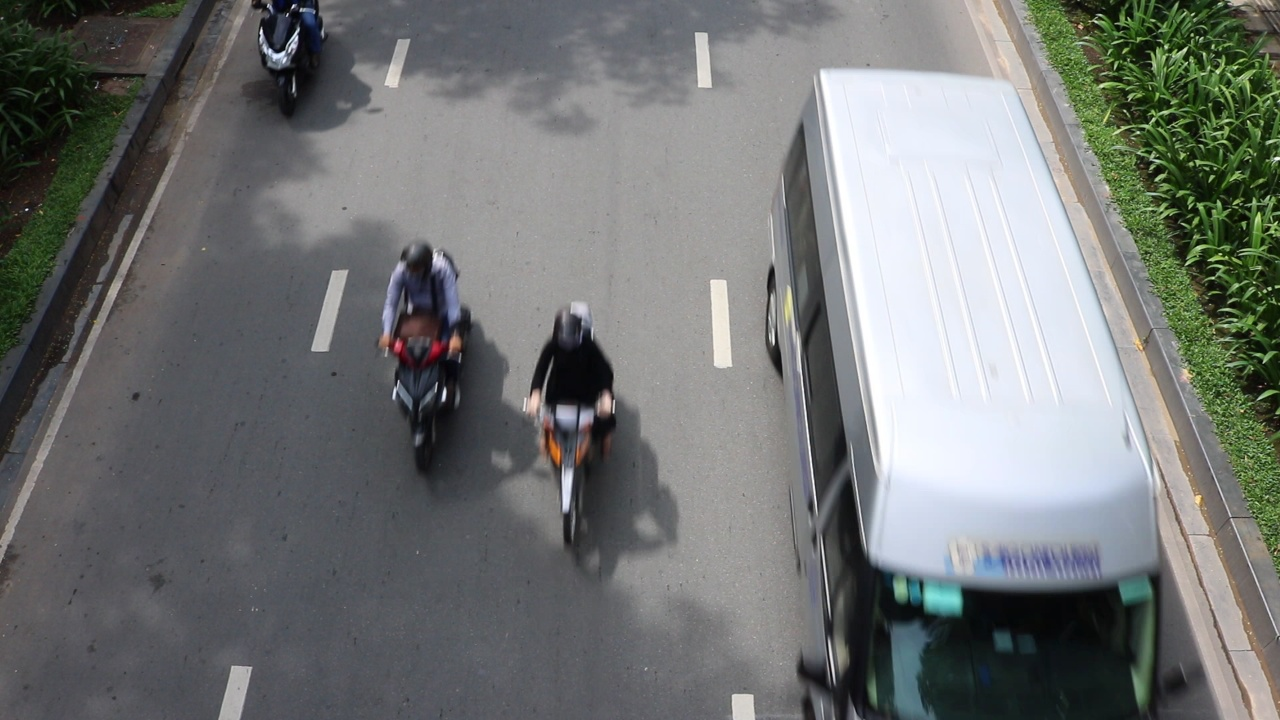car: (762, 63, 1162, 714)
motorcycle: (527, 392, 615, 558), (385, 317, 464, 473), (249, 1, 327, 117)
